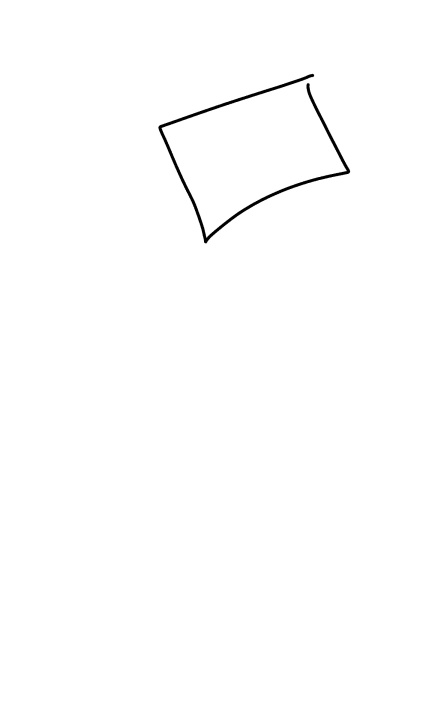Square: (150, 68, 353, 246)
